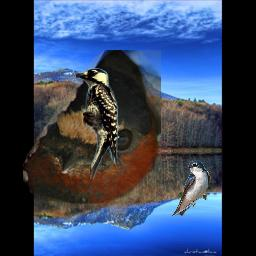Swallow: (23, 50, 161, 208), (172, 160, 211, 216)
Woodpecker: (73, 68, 120, 180)
